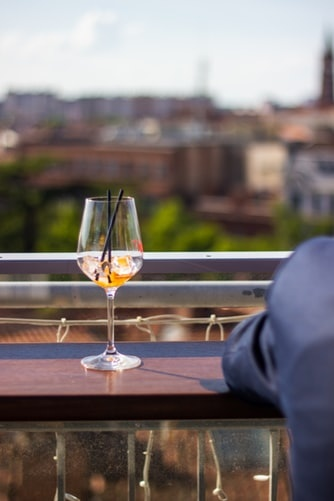whiskey: (75, 185, 147, 363)
